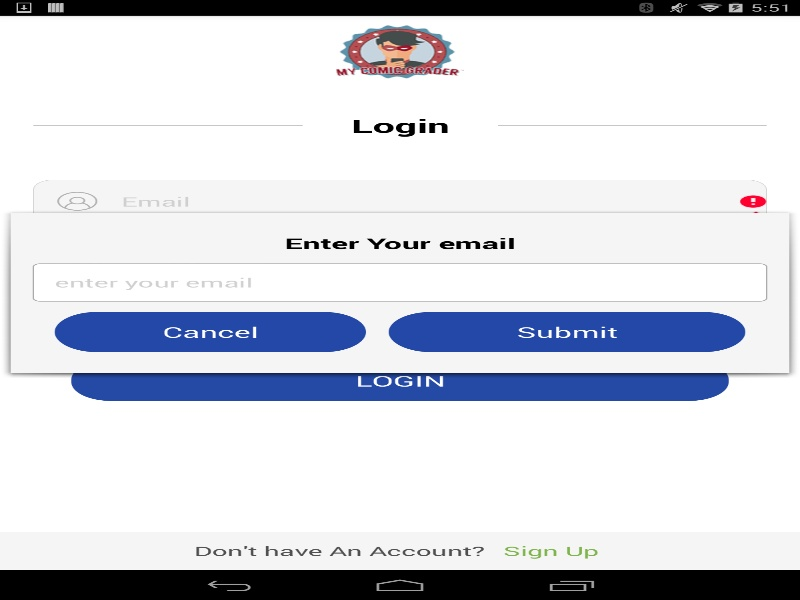Input: (32, 263, 767, 301)
